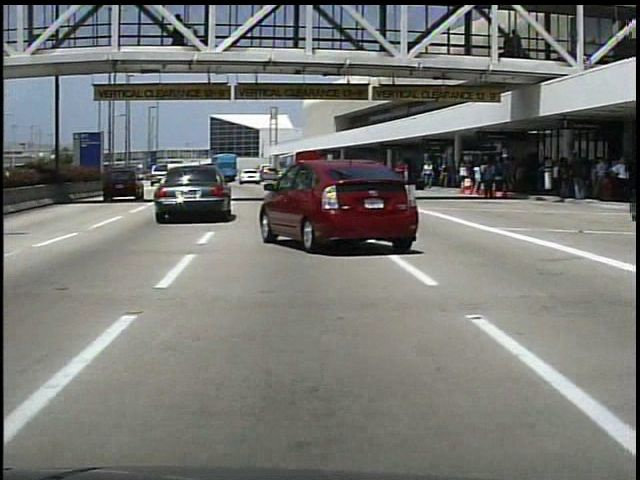person: (480, 159, 498, 206), (171, 16, 187, 49), (421, 161, 437, 193)
